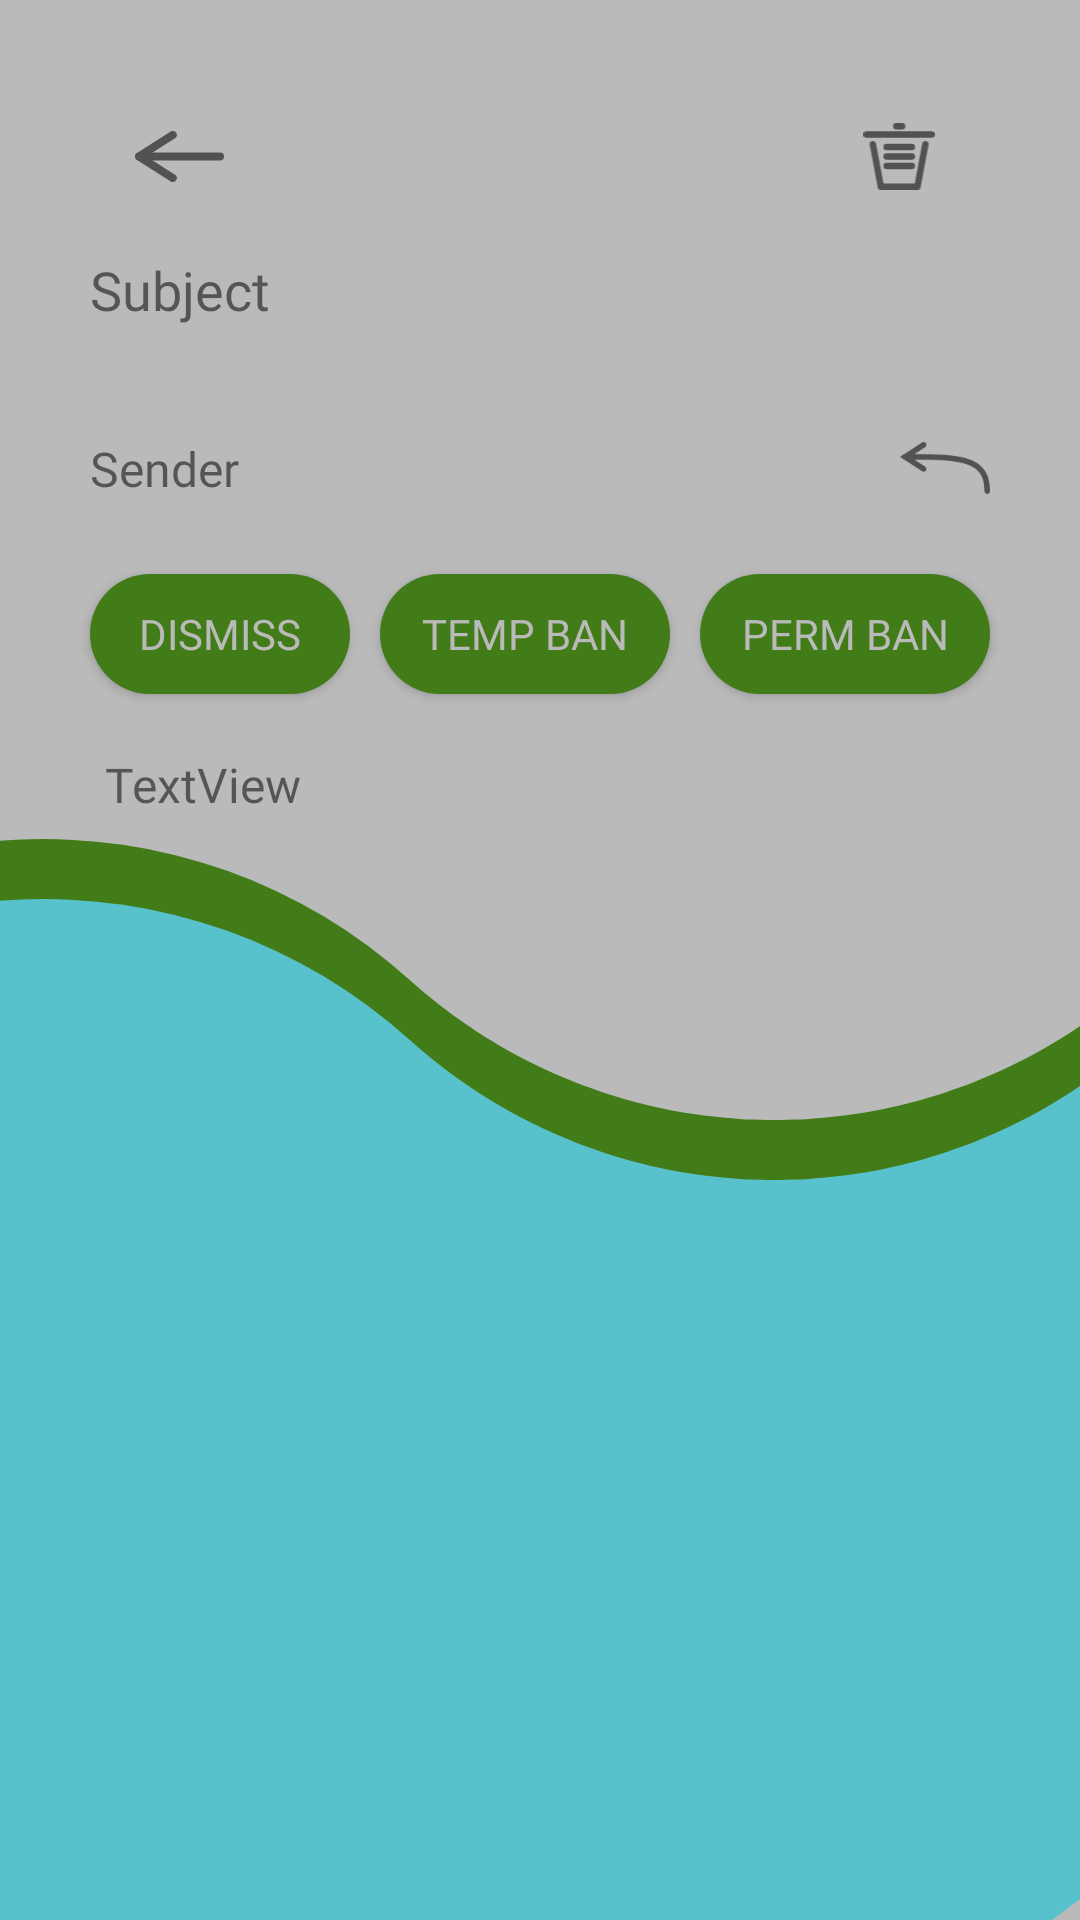

Icons on this 1080 x 1920 Android screen, each with the point to tap as (x=x, y=y):
arrow: (x=179, y=156)
reply: (x=945, y=468)
trash: (x=899, y=156)
